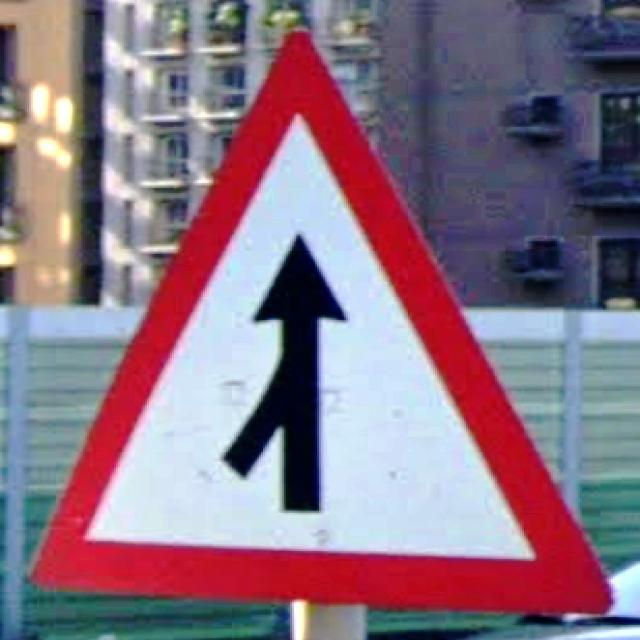leftmerge: (31, 31, 617, 619)
